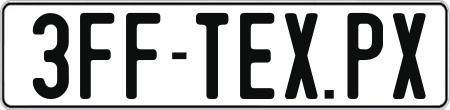3: (30, 13, 69, 105)
E: (238, 13, 272, 101)
F: (79, 11, 114, 103), (124, 13, 158, 99)
P: (347, 10, 386, 99)
T: (194, 12, 230, 99)
X: (282, 11, 321, 101), (391, 11, 424, 98)
